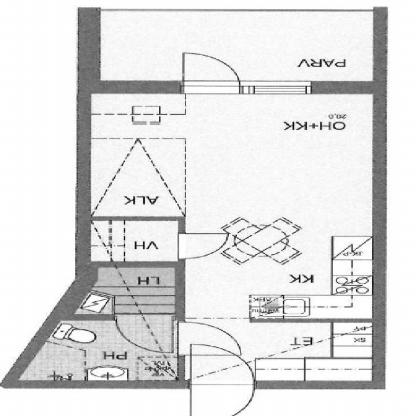door: (182, 342, 264, 416), (182, 51, 240, 99), (177, 323, 251, 359), (114, 314, 173, 359), (170, 234, 235, 258)
window: (245, 84, 312, 98)
zone: (93, 95, 374, 318), (103, 12, 382, 80), (181, 320, 374, 380), (10, 312, 174, 378), (87, 262, 177, 318), (92, 219, 180, 262)
